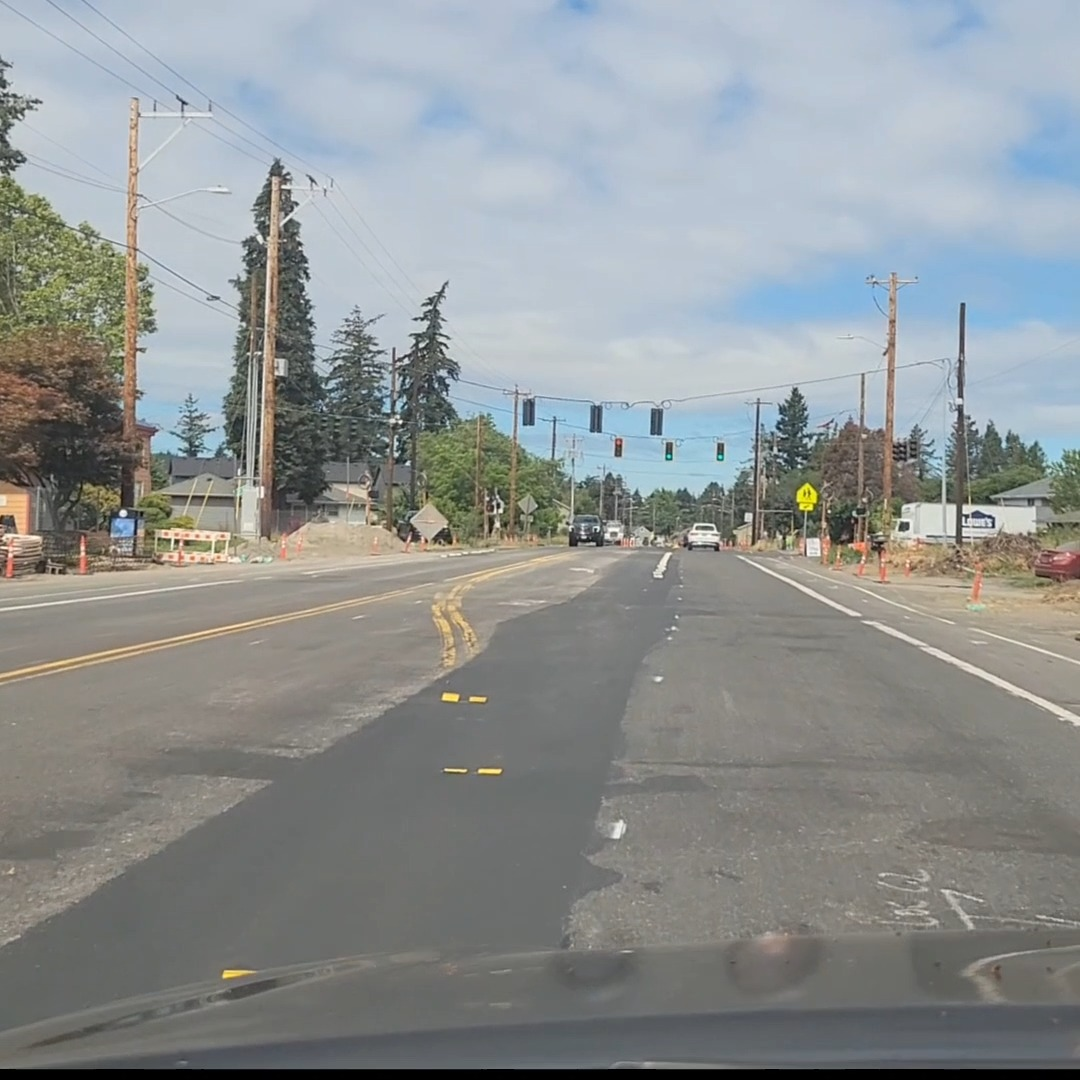car: (398, 520, 453, 545), (567, 514, 602, 547), (684, 522, 721, 551), (602, 520, 623, 545)
crosswalk-sign: (795, 482, 818, 511)
delineator: (965, 560, 984, 609), (77, 535, 88, 574), (855, 543, 868, 575), (877, 549, 888, 582), (4, 545, 15, 577), (903, 553, 912, 577), (833, 546, 842, 569), (279, 535, 287, 559), (403, 533, 413, 552), (294, 533, 303, 554), (176, 539, 184, 560), (371, 536, 379, 555), (421, 536, 427, 550)
